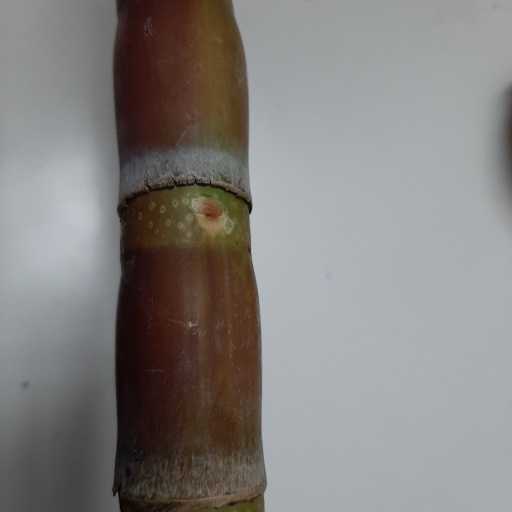Damage_Bud: (189, 194, 228, 232)
